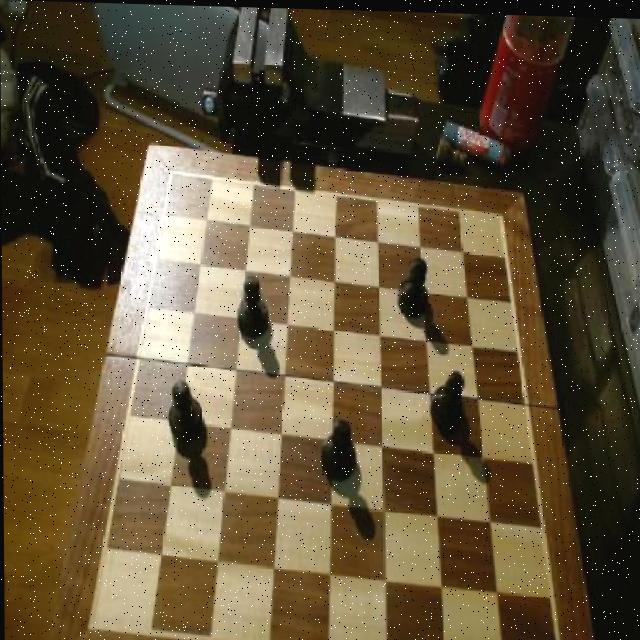black-knight: (167, 379, 205, 453), (429, 364, 467, 432), (319, 417, 355, 487), (234, 275, 270, 341), (397, 255, 431, 319)
